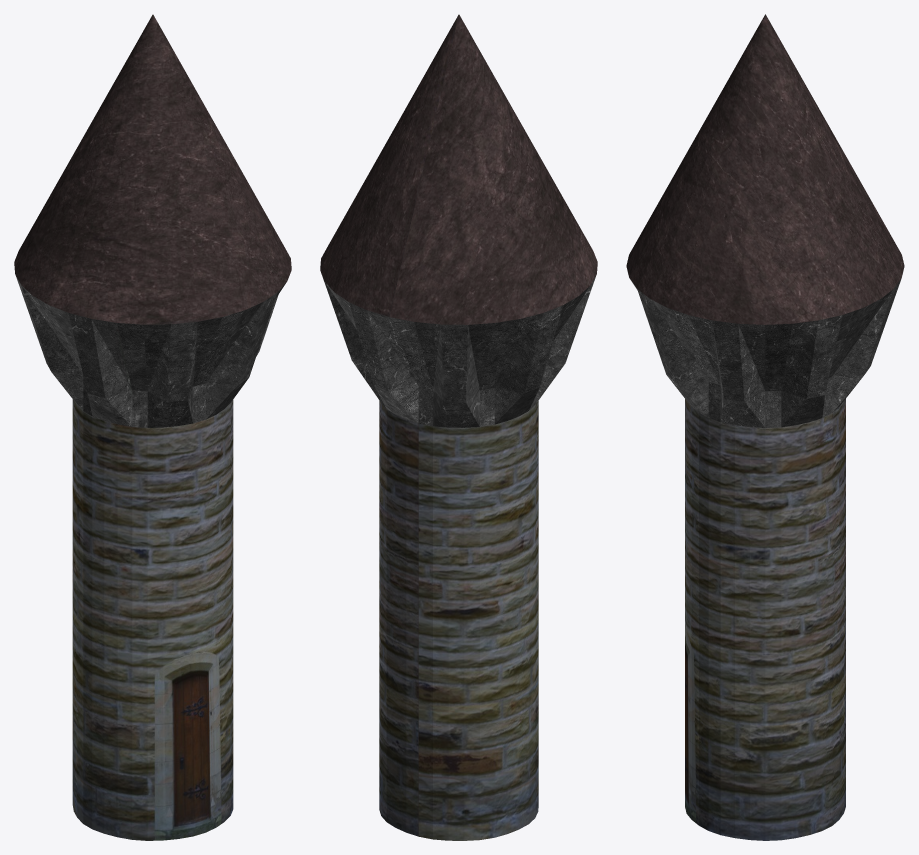
Rendered from castle.glb.
3 renders of one model, left to right at view 1: azimuth 30°, elevation 25°; view 2: azimuth 150°, elevation 25°; view 3: azimuth 270°, elevation 25°, orthographic.
Visible parts, largest first — view 1: Asset3DLoader.sceneRoot; view 2: Asset3DLoader.sceneRoot; view 3: Asset3DLoader.sceneRoot.
Boxes of the visible parts, bbox=[...] form: Asset3DLoader.sceneRoot: bbox=[14, 14, 291, 840]; Asset3DLoader.sceneRoot: bbox=[320, 14, 597, 840]; Asset3DLoader.sceneRoot: bbox=[626, 14, 904, 840].
Bounding box in the file's own units: 0.7948 × 2.5 × 0.7948.
2 materials, 2 textured.
